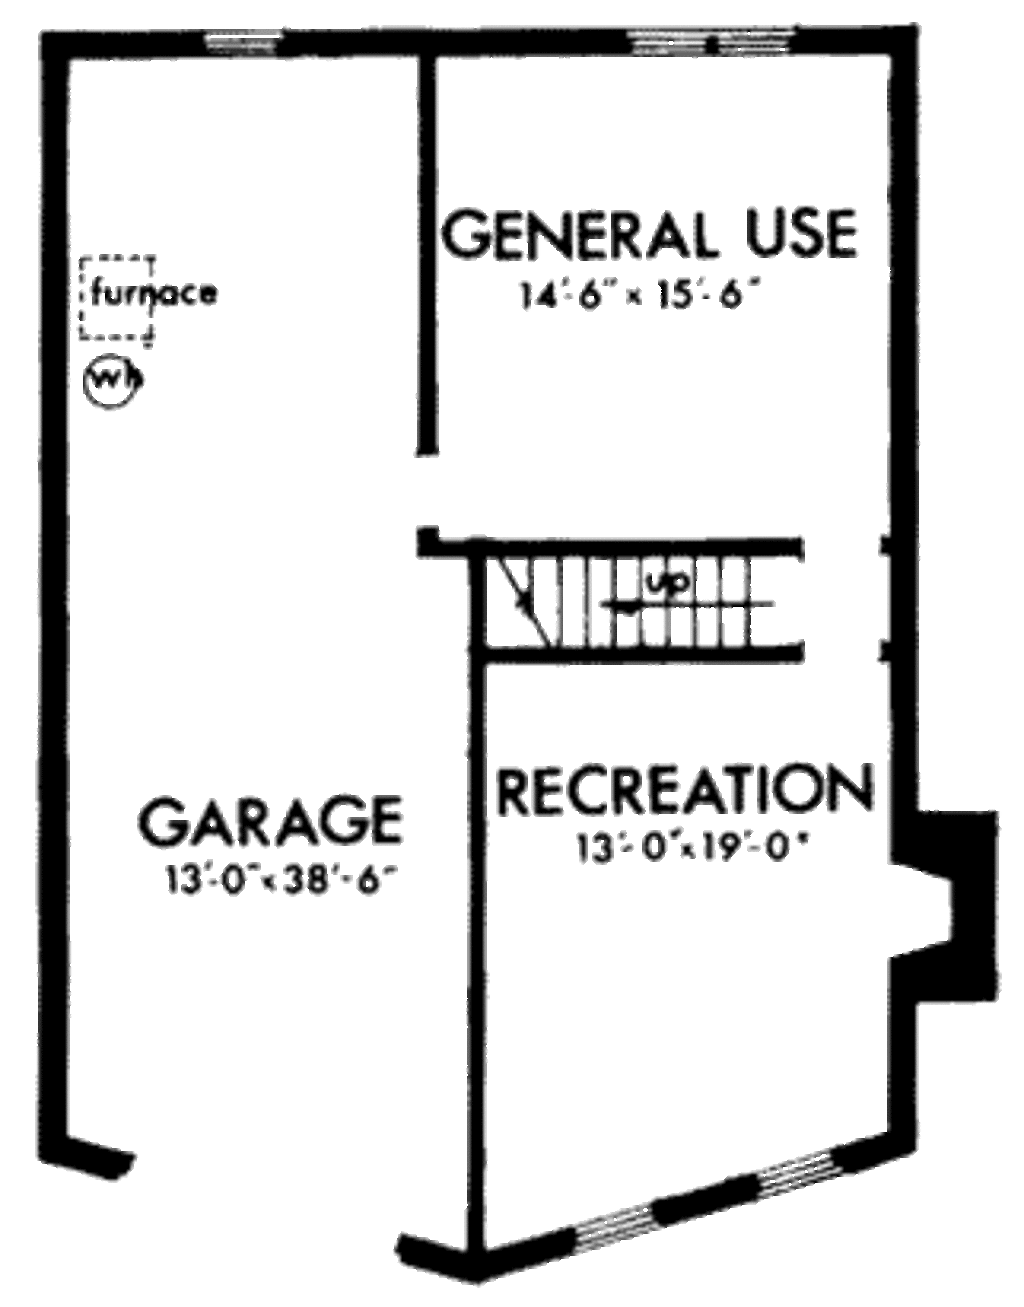stairs: (485, 513, 849, 719)
window: (629, 19, 793, 59), (553, 1203, 667, 1253), (749, 1149, 849, 1199), (195, 21, 281, 75)
